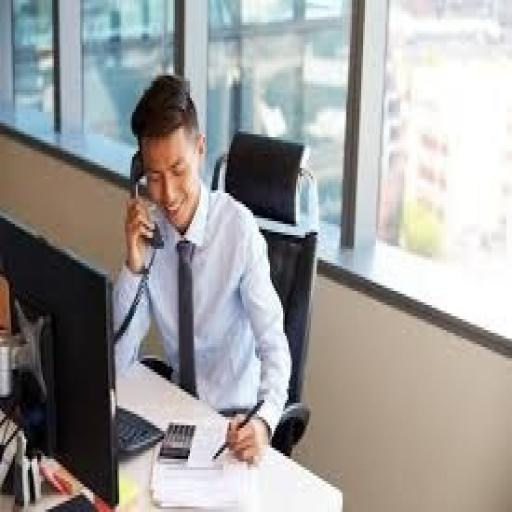calling: (110, 70, 294, 464)
